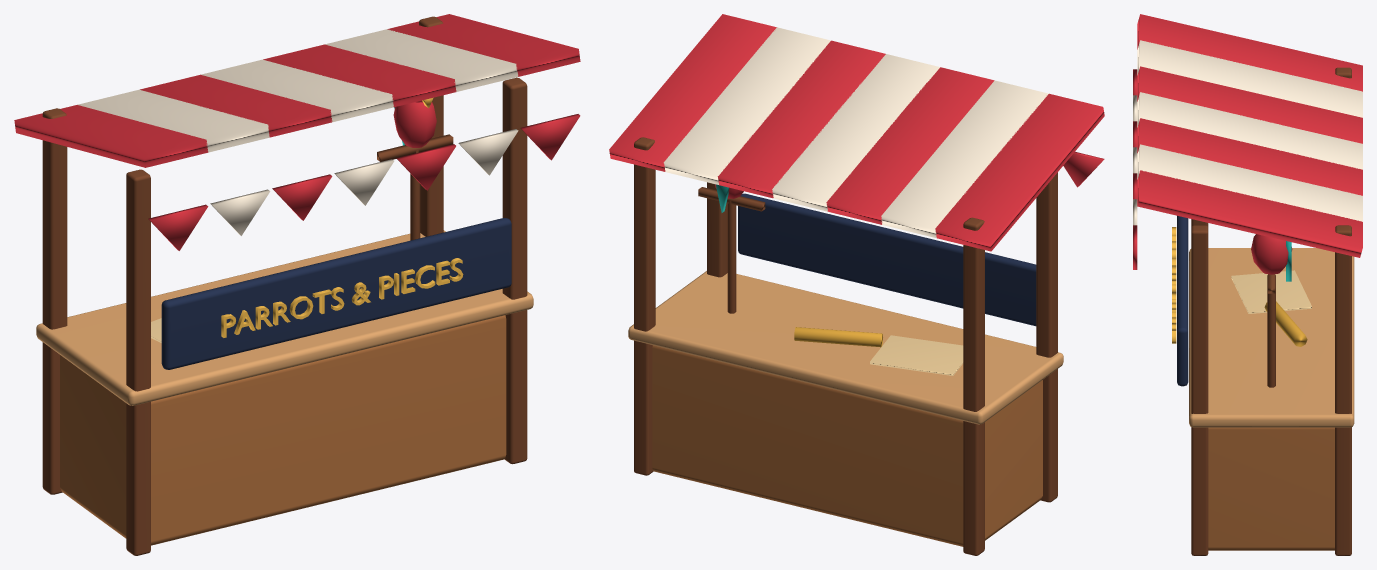
Rendered from cove_stall.glb.
3 views of the same model, side by side, from view 1: azimuth 30°, elevation 25°; view 2: azimuth 150°, elevation 25°; view 3: azimuth 270°, elevation 25° (orthographic). The views are drawn at different scales.
Visible parts, largest first — view 1: Stall; view 2: Stall; view 3: Stall.
Boxes of the visible parts, <box> form: Stall: <box>14,14,580,555</box>; Stall: <box>609,14,1104,555</box>; Stall: <box>1133,14,1362,555</box>.
Bounding box in the file's own units: 3 × 2.84 × 1.6.
